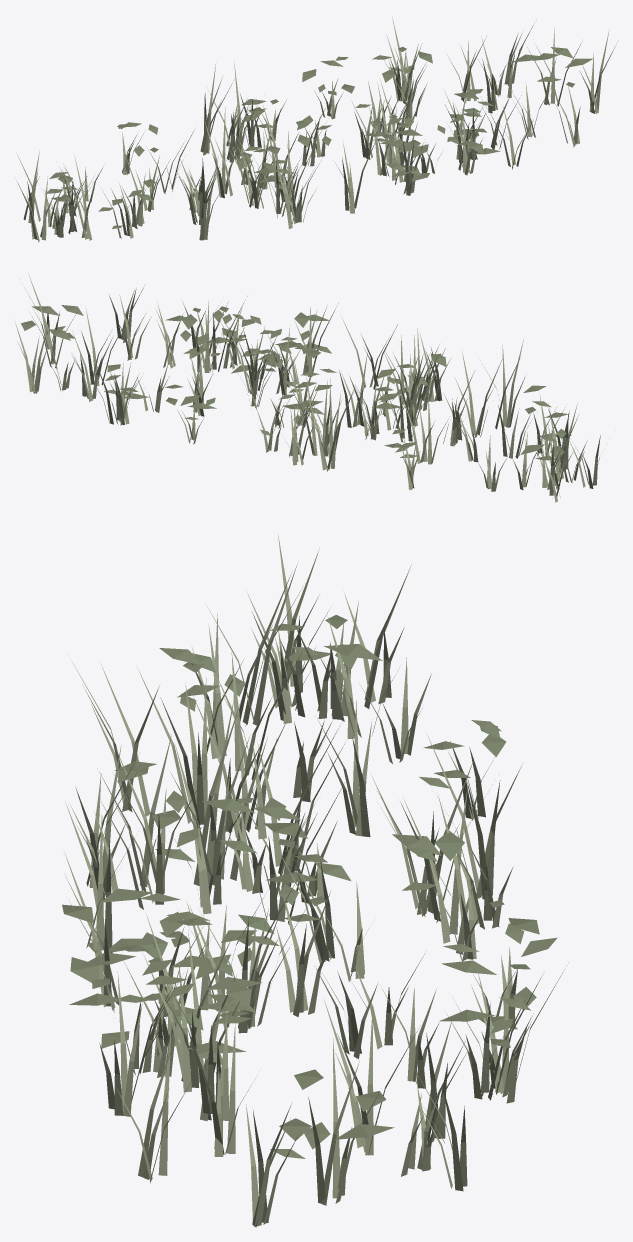
File: AE_Encroachment_07.fbx
3 renders of one model, top to bottom at view 1: azimuth 30°, elevation 25°; view 2: azimuth 150°, elevation 25°; view 3: azimuth 270°, elevation 25°, orthographic. The views are drawn at different scales.
Visible parts, largest first — view 1: AE_Encroachment_07_LOD0; view 2: AE_Encroachment_07_LOD0; view 3: AE_Encroachment_07_LOD0.
Part boxes in pixels (box(x1,y1,x2,y2)): AE_Encroachment_07_LOD0: box(15, 16, 618, 242); AE_Encroachment_07_LOD0: box(15, 273, 600, 502); AE_Encroachment_07_LOD0: box(62, 534, 564, 1227).
Size of what is drawn, in the model's own units: 789 by 106 by 292.
